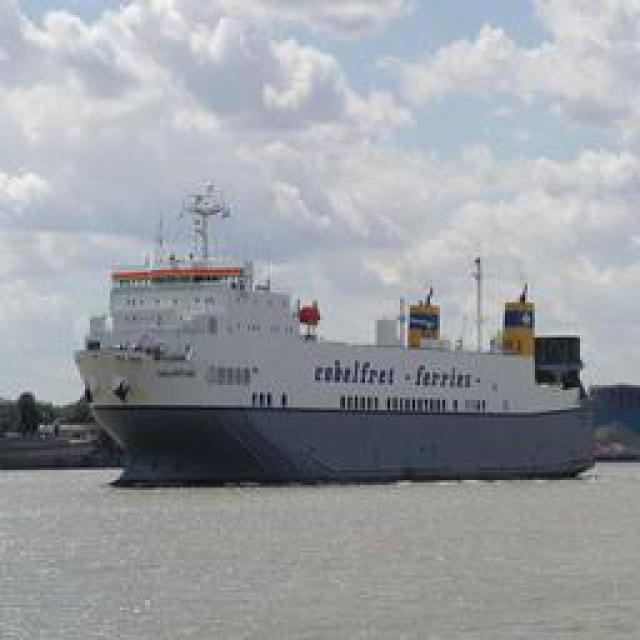Ship: (77, 192, 605, 485)
